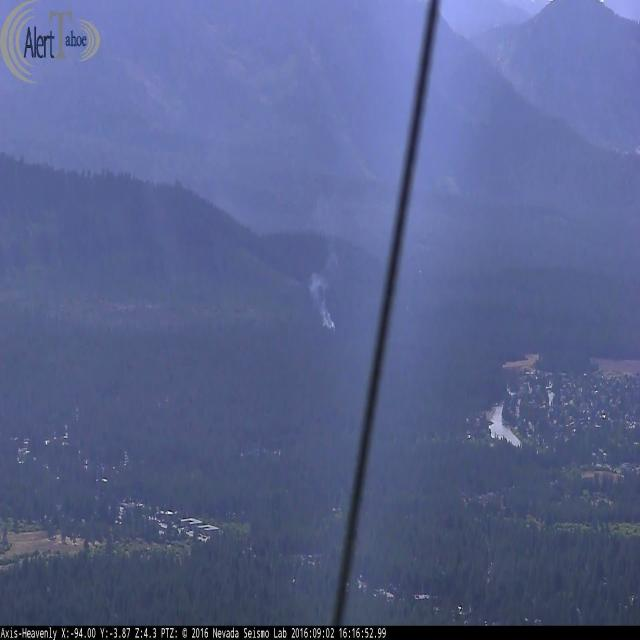smoke: (308, 272, 337, 331)
